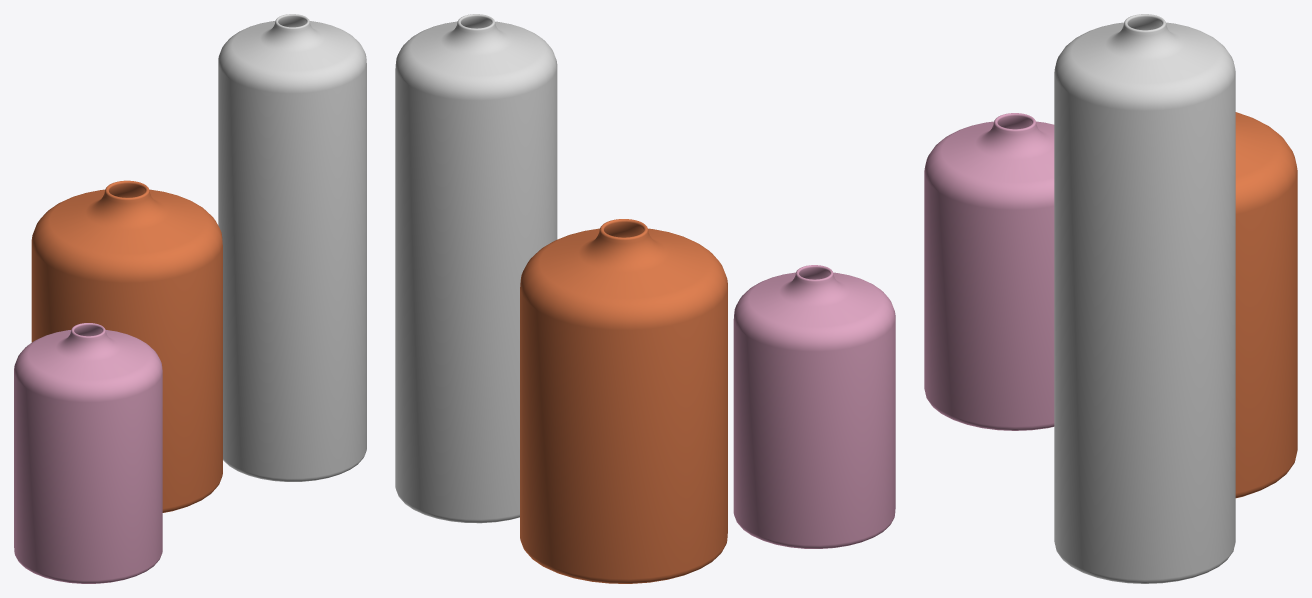
File: Vaso_Trio.fbx
3 views of the same model, side by side, from view 1: azimuth 30°, elevation 25°; view 2: azimuth 150°, elevation 25°; view 3: azimuth 270°, elevation 25° (orthographic). The views are drawn at different scales.
Visible parts, largest first — view 1: Trio_Vase; view 2: Trio_Vase; view 3: Trio_Vase.
Part boxes in pixels (x1,y1,x2,y2): Trio_Vase: (14, 14, 366, 583); Trio_Vase: (395, 14, 895, 583); Trio_Vase: (924, 14, 1297, 583).
Bounding box in the file's own units: 27.97 × 29.86 × 19.22.
